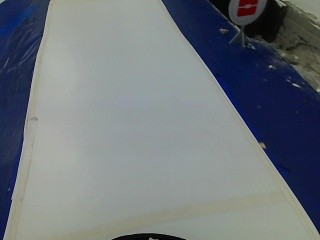company: (225, 0, 266, 25)
